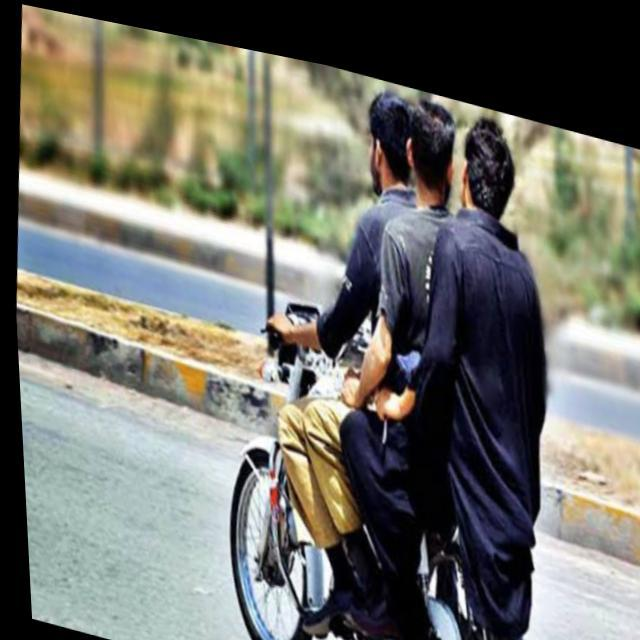Nonhelmet: (402, 90, 466, 204), (460, 112, 521, 220), (360, 89, 416, 188)
